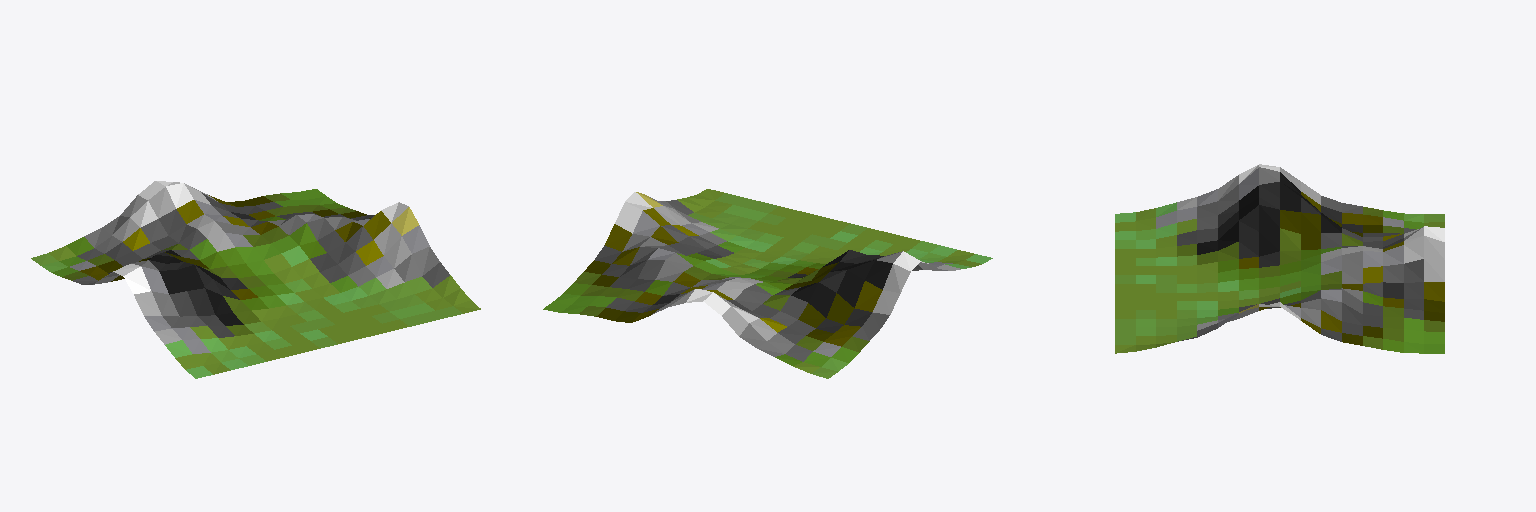
3 renders of one model, left to right at view 1: azimuth 30°, elevation 25°; view 2: azimuth 150°, elevation 25°; view 3: azimuth 270°, elevation 25°, orthographic.
Visible parts, largest first — view 1: mountains11; view 2: mountains11; view 3: mountains11.
Boxes of the visible parts, x1=… form: mountains11: x1=31, y1=181, x2=480, y2=378; mountains11: x1=543, y1=189, x2=992, y2=378; mountains11: x1=1115, y1=164, x2=1444, y2=353.
Size of the model in its own units: 1 by 0.1863 by 1.
Materials: 1 (1 with a texture image).